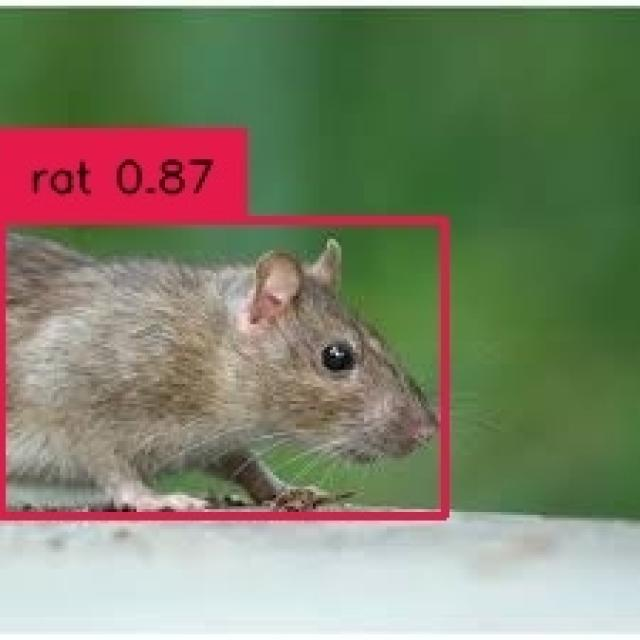rat: (0, 216, 441, 512)
